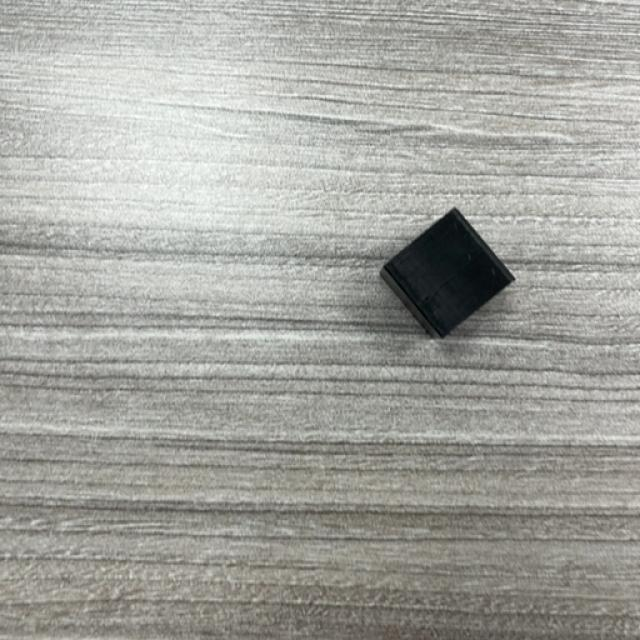Negro: (379, 209, 516, 340)
